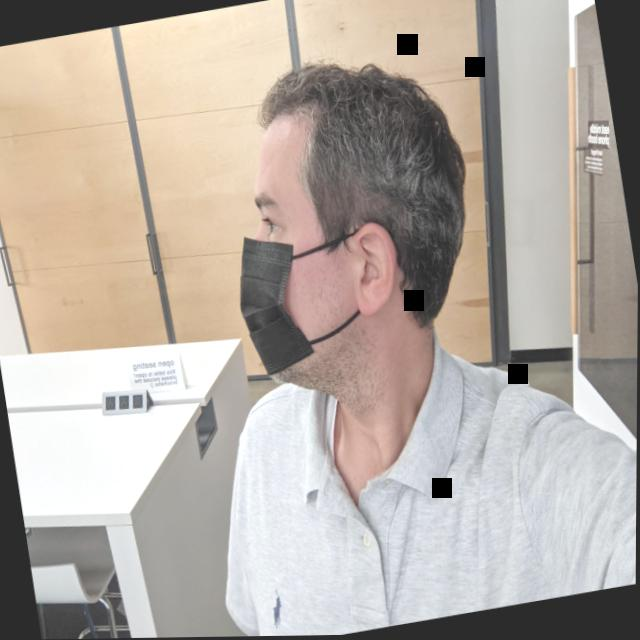Mask: (208, 87, 418, 400)
